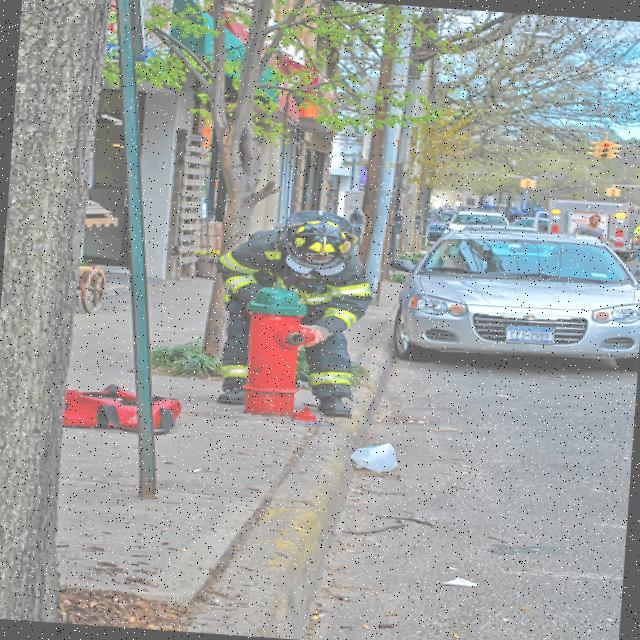fire_hydrant: (238, 284, 312, 418)
